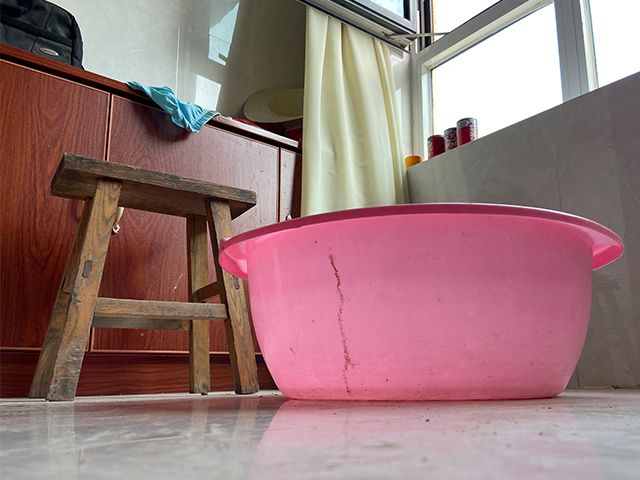cabinet: (1, 42, 303, 400)
stool: (26, 152, 260, 395)
